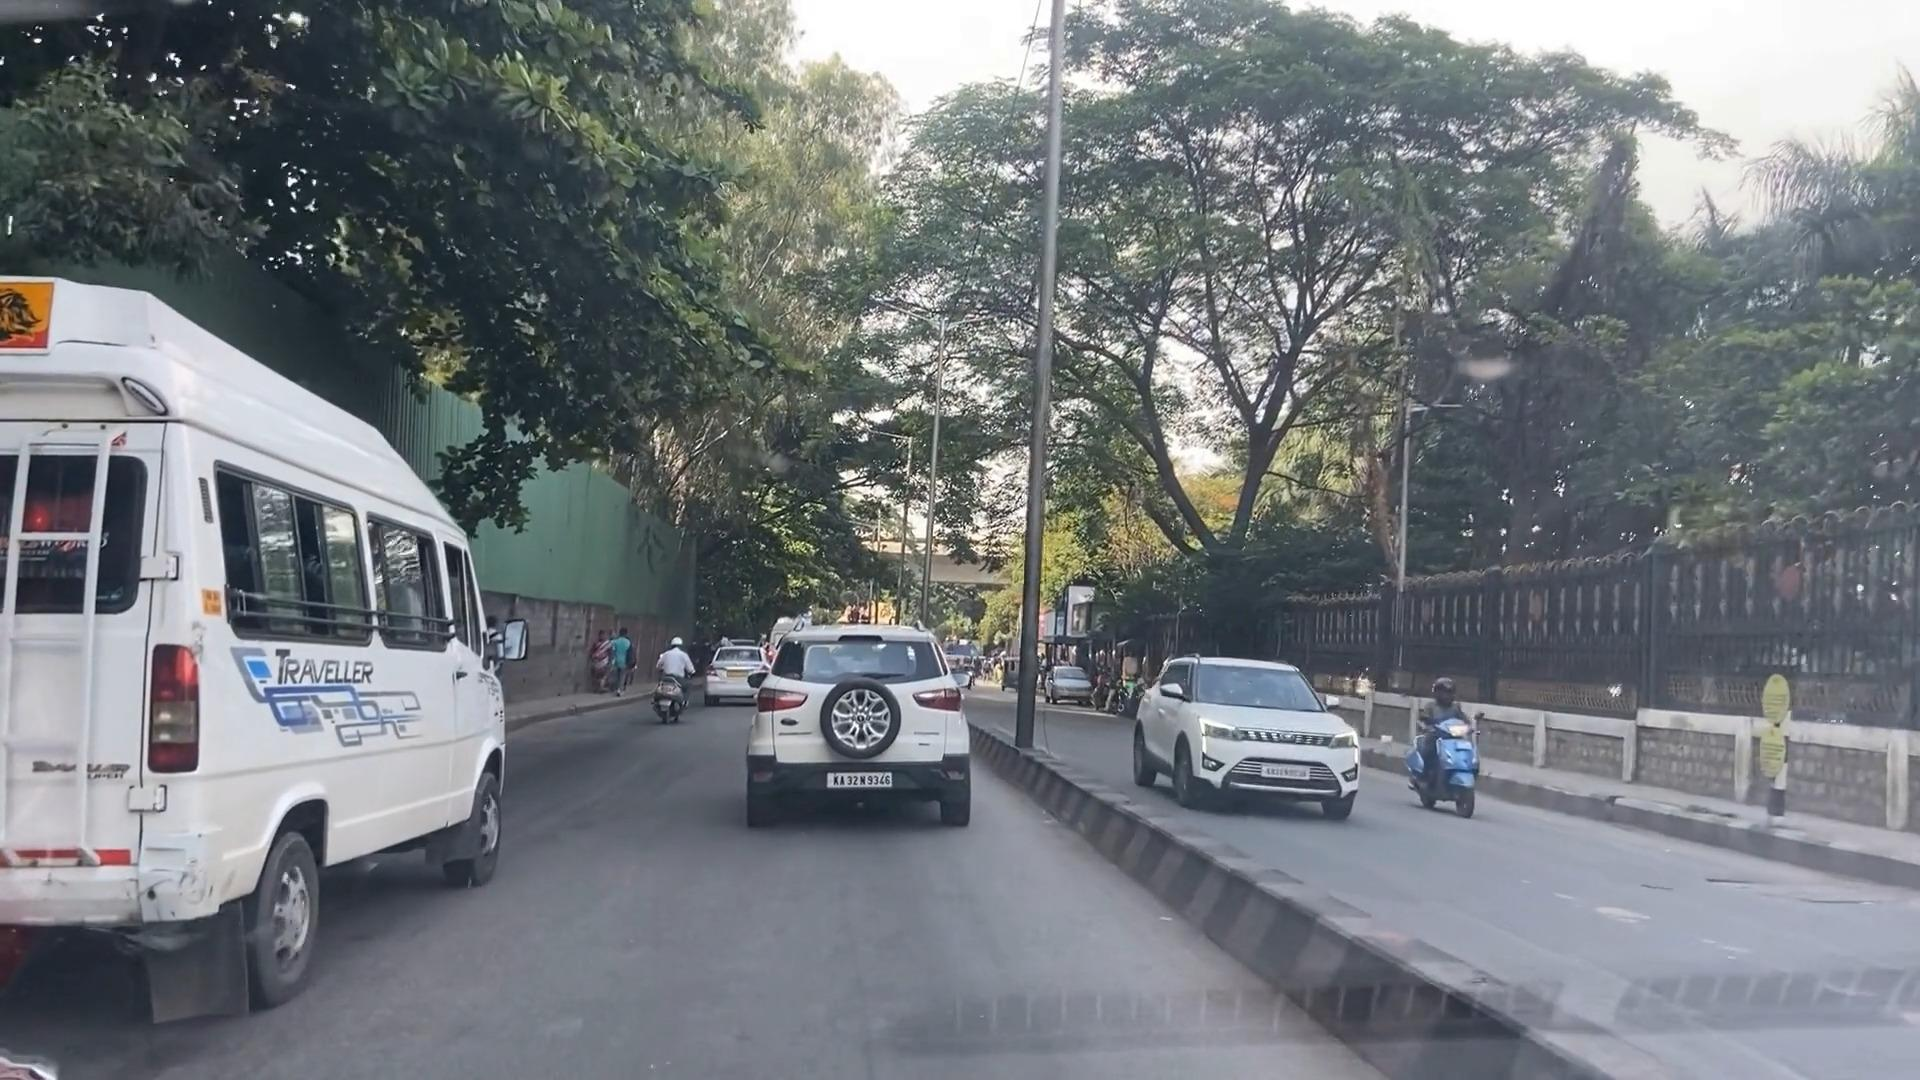HMV: (5, 290, 521, 990)
LMV: (745, 628, 969, 827)
